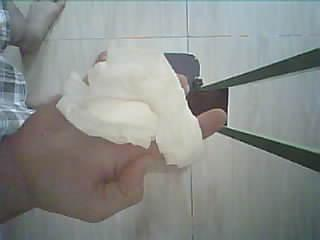paper: (57, 49, 202, 168)
